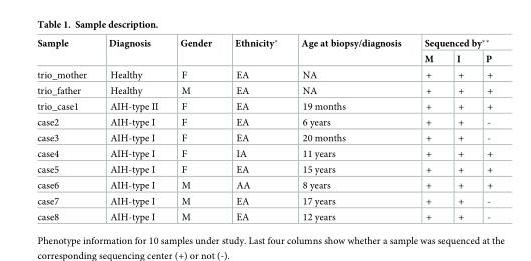table: (36, 36, 492, 221)
table column: (288, 36, 412, 221), (97, 36, 168, 221), (222, 36, 288, 221), (36, 36, 97, 221), (168, 36, 222, 221), (412, 36, 444, 221), (444, 36, 474, 221), (474, 36, 492, 221)
table column header: (36, 36, 492, 66)
table row: (36, 66, 492, 82), (36, 82, 492, 98), (36, 98, 492, 114), (36, 129, 492, 145), (36, 145, 492, 161), (36, 161, 492, 177), (36, 177, 492, 193), (36, 36, 492, 51), (36, 51, 492, 66), (36, 114, 492, 129), (36, 193, 492, 208), (36, 208, 492, 221)
table spanning cell: (288, 36, 412, 66), (97, 36, 168, 66), (222, 36, 288, 66), (36, 36, 97, 66), (168, 36, 222, 66), (412, 36, 492, 51)
